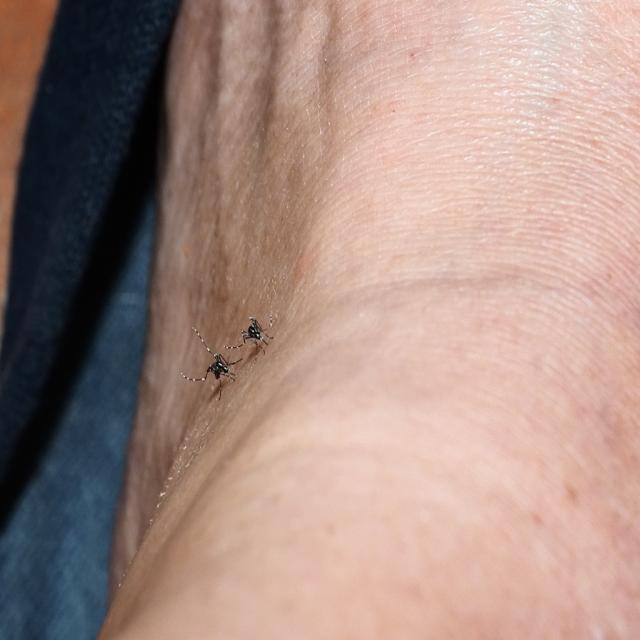albopictus: (173, 306, 279, 402)
